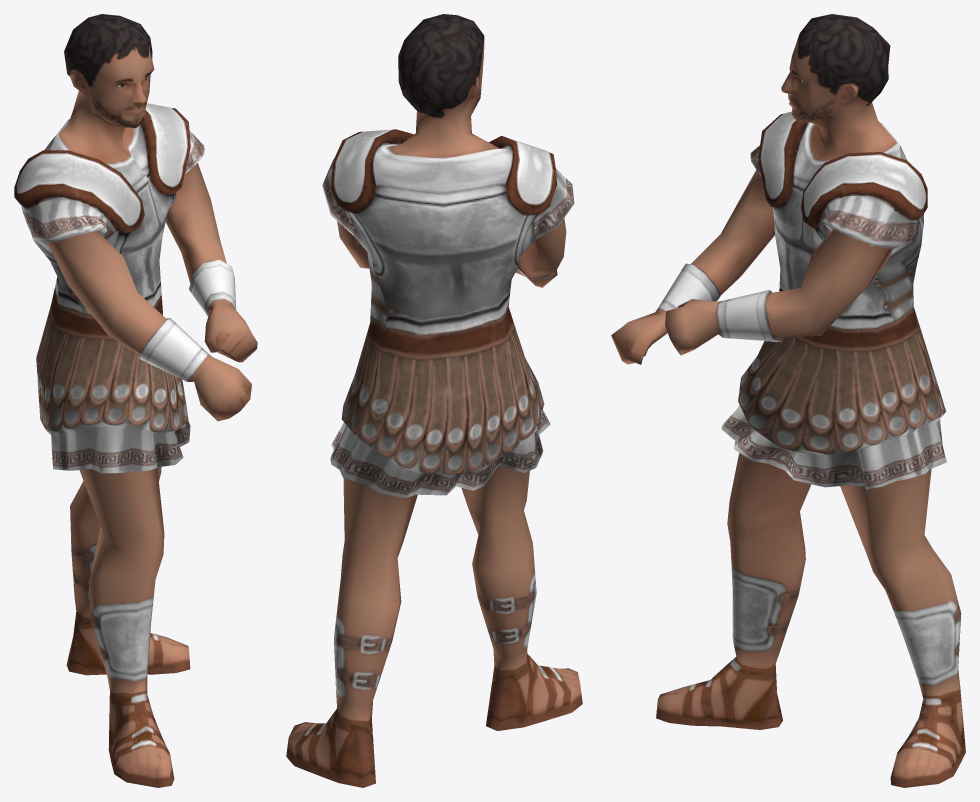
Rendered from body-mediumarchers.glb.
3 views of the same model, side by side, from view 1: azimuth 30°, elevation 25°; view 2: azimuth 150°, elevation 25°; view 3: azimuth 270°, elevation 25° (orthographic). The views are drawn at different scales.
Bounding box in the file's own units: 0.644 × 2.06 × 0.9286.
1 material, 1 textured.
